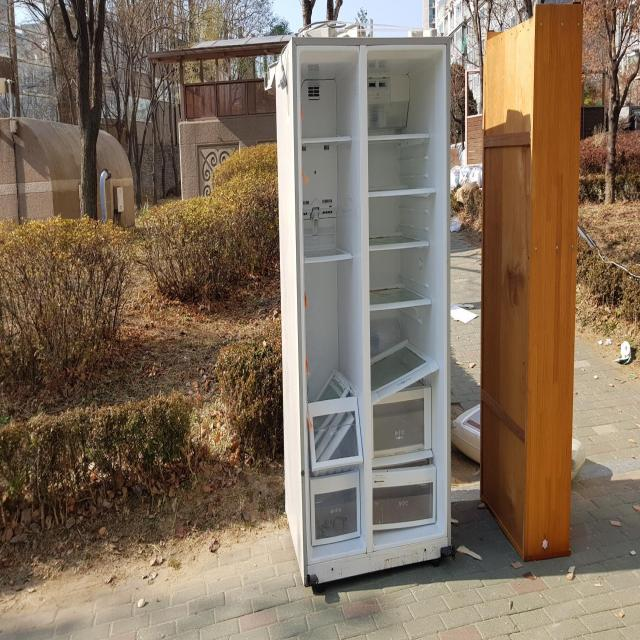refrigerator: (274, 20, 453, 593)
